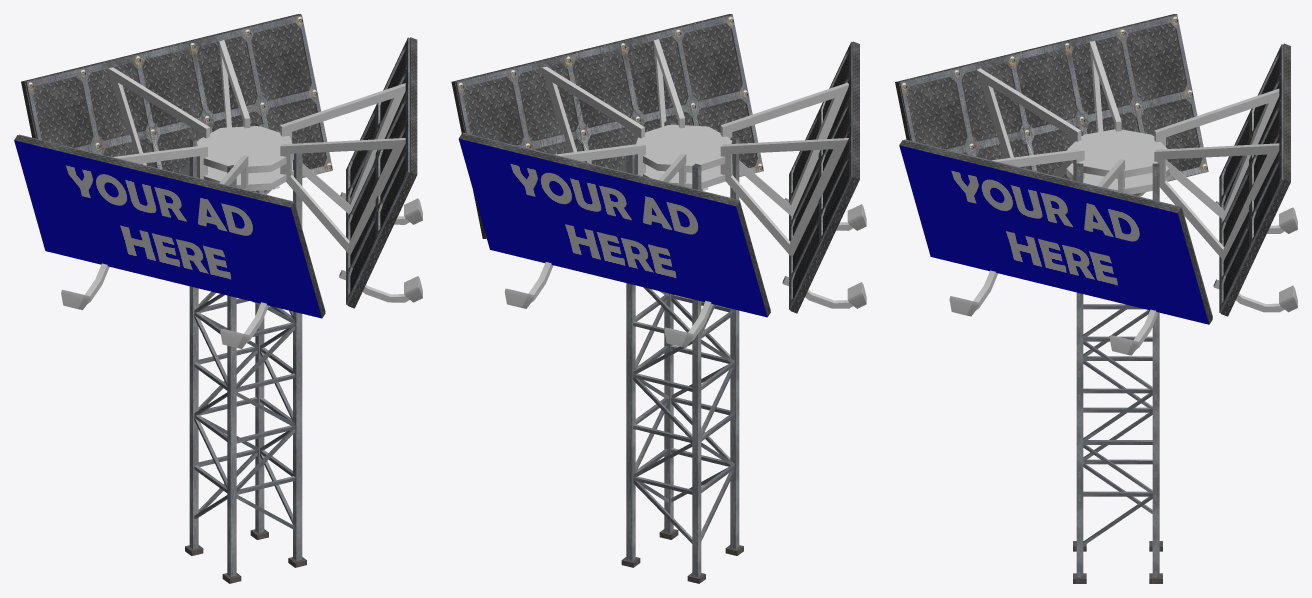
Rendered from billboard_04.fbx.
The picture shows the model from 3 angles, left to right: view 1: azimuth 30°, elevation 25°; view 2: azimuth 150°, elevation 25°; view 3: azimuth 270°, elevation 25°; orthographic projection.
Parts seen in each view (by area): view 1: pCube384, pCube504, pasted__pCube264, pCube495, pCube497, pCube503, pasted__pCube265, pasted__pCube322, pCylinder138, polySurface9, pCube496, pCylinder139; view 2: pCube504, pCube503, pasted__pCube264, pCube497, pCube496, pCube384, pasted__pCube265, pasted__pCube322, pCylinder138, polySurface9, pCube495, pCylinder139; view 3: pCube503, pCube384, pCube496, pCube495, pCube504, pasted__pCube264, pCylinder138, polySurface9, pasted__pCube265, pasted__pCube322, pCube497, pCylinder139.
Boxes of the visible parts, x1,y1,x2,y2 form: pCube384: [14, 135, 325, 318]; pCube504: [21, 14, 332, 177]; pasted__pCube264: [185, 121, 306, 583]; pCube495: [25, 15, 332, 177]; pCube497: [280, 37, 409, 304]; pCube503: [347, 37, 417, 308]; pasted__pCube265: [194, 397, 295, 530]; pasted__pCube322: [194, 298, 295, 426]; pCylinder138: [196, 126, 293, 173]; polySurface9: [61, 185, 422, 348]; pCube496: [19, 134, 325, 311]; pCylinder139: [203, 161, 293, 190]; pCube504: [458, 133, 770, 317]; pCube503: [451, 14, 763, 238]; pasted__pCube264: [621, 120, 743, 583]; pCube497: [455, 15, 763, 176]; pCube496: [720, 41, 852, 309]; pCube384: [790, 41, 859, 313]; pasted__pCube265: [633, 397, 734, 543]; pasted__pCube322: [633, 294, 734, 439]; pCylinder138: [636, 124, 732, 172]; polySurface9: [504, 187, 866, 347]; pCube495: [463, 132, 770, 309]; pCylinder139: [643, 164, 725, 189]; pCube503: [899, 140, 1212, 324]; pCube384: [895, 14, 1208, 181]; pCube496: [899, 15, 1208, 181]; pCube495: [1154, 44, 1283, 313]; pCube504: [1221, 43, 1290, 316]; pasted__pCube264: [1073, 131, 1162, 583]; pCylinder138: [1067, 129, 1167, 178]; polySurface9: [949, 192, 1297, 355]; pasted__pCube265: [1083, 407, 1152, 545]; pasted__pCube322: [1083, 304, 1152, 441]; pCube497: [904, 139, 1212, 317]; pCylinder139: [1066, 163, 1169, 194].
Size of the model in its own units: 88.05 by 93.45 by 75.29.
